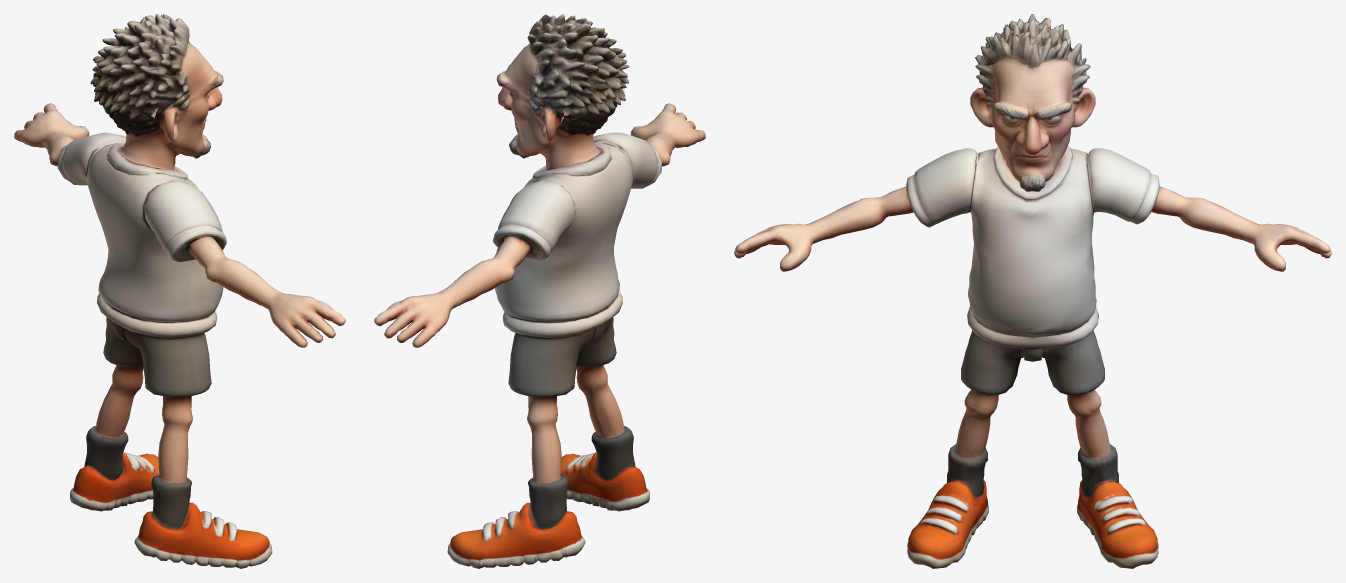
The picture shows the model from 3 angles, left to right: view 1: azimuth 30°, elevation 25°; view 2: azimuth 150°, elevation 25°; view 3: azimuth 270°, elevation 25°; orthographic projection.
Visible parts, largest first — view 1: tripo_node_4ffb7832; view 2: tripo_node_4ffb7832; view 3: tripo_node_4ffb7832.
Part boxes in pixels (x1,y1,x2,y2): tripo_node_4ffb7832: [14, 14, 345, 568]; tripo_node_4ffb7832: [374, 14, 705, 568]; tripo_node_4ffb7832: [734, 14, 1331, 568].
Size of the model in its own units: 23.87 by 96.67 by 100.
1 material, 1 textured.
